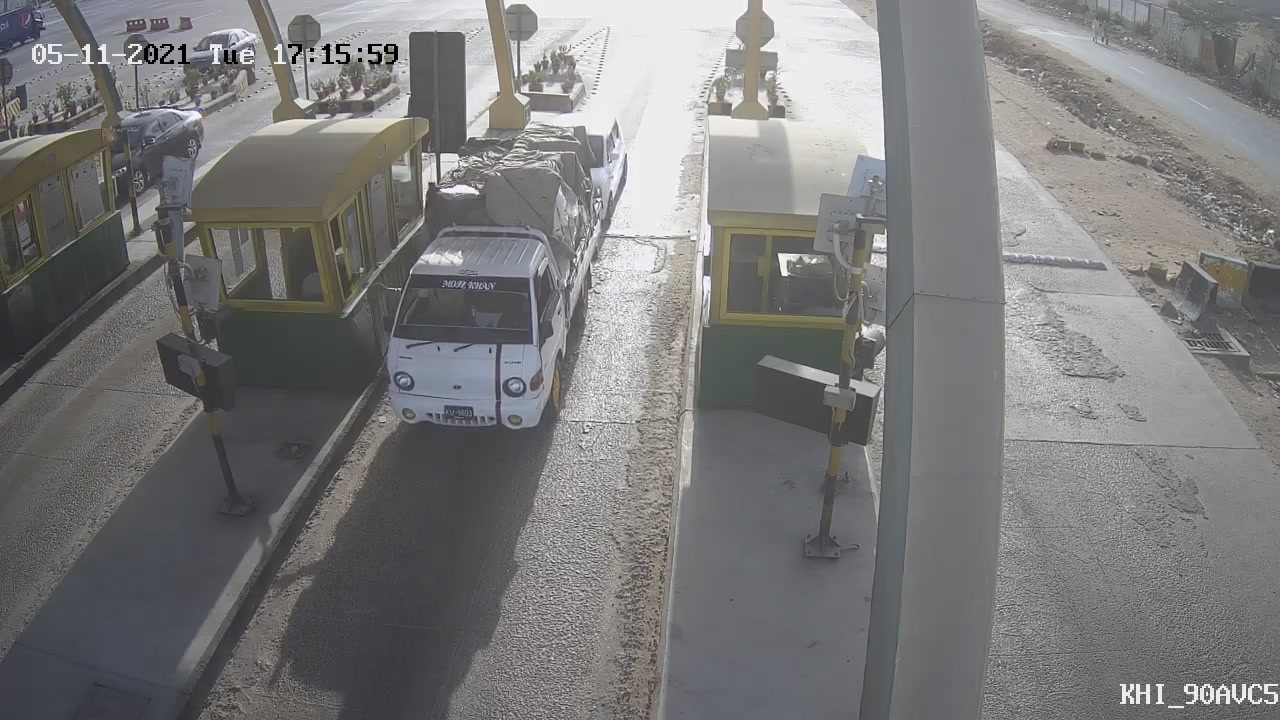F2: (350, 112, 624, 459)
